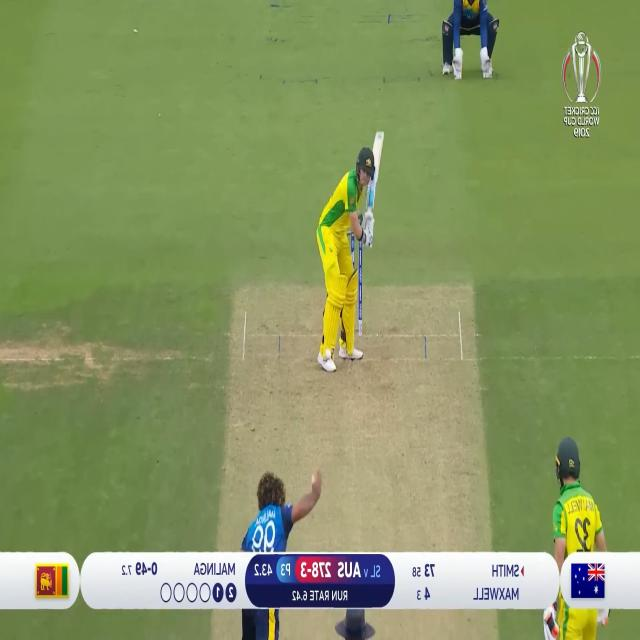ball: (321, 349, 334, 362)
